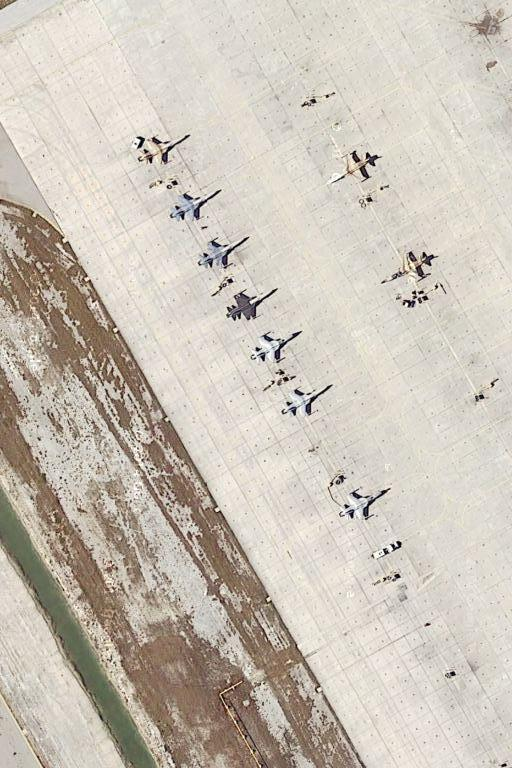F-16: (134, 128, 193, 170), (247, 326, 305, 367), (378, 248, 435, 289), (325, 148, 381, 189), (195, 234, 252, 274), (167, 186, 224, 226), (336, 484, 394, 523), (225, 284, 281, 323), (281, 379, 334, 419)
